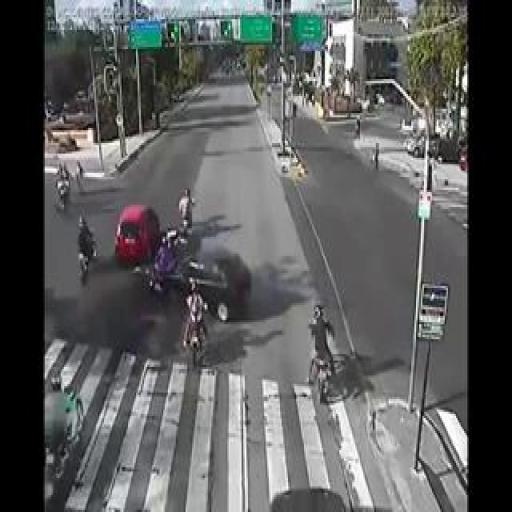Car: (165, 250, 252, 320), (115, 201, 158, 261)
Major Accident: (147, 228, 256, 325)
Motor: (45, 374, 83, 476), (148, 232, 184, 304), (308, 306, 335, 391), (182, 280, 208, 356), (77, 217, 97, 279), (178, 188, 196, 234), (56, 169, 71, 210)
